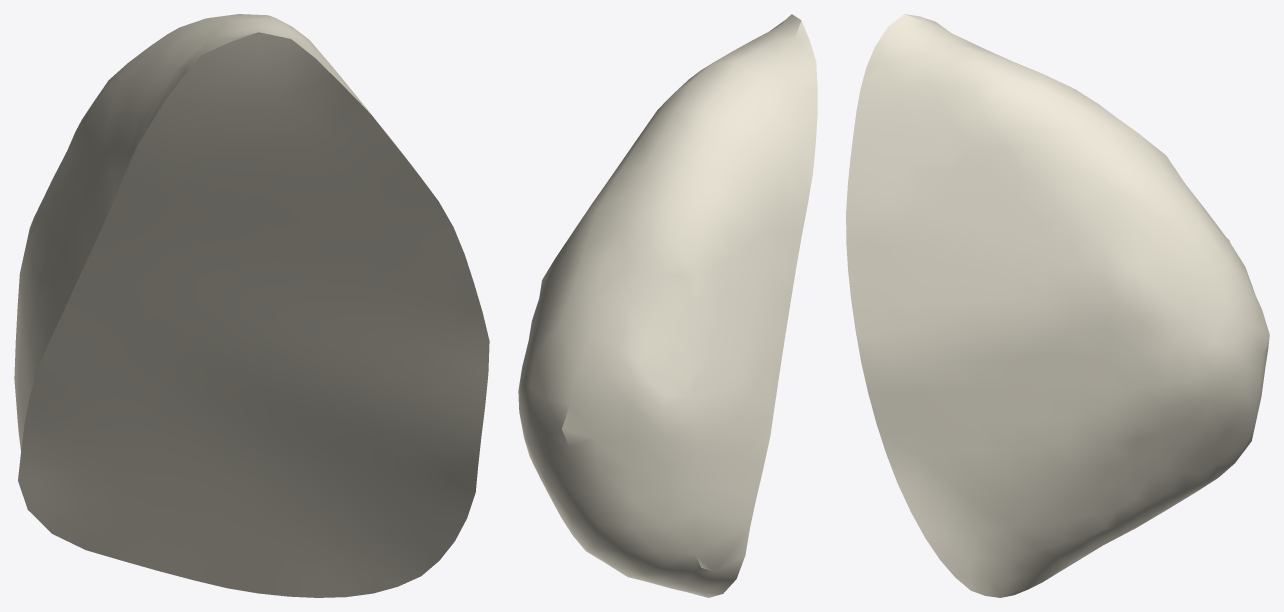
Rendered from fma16323_mm2349.glb.
The picture shows the model from 3 angles, left to right: view 1: azimuth 30°, elevation 25°; view 2: azimuth 150°, elevation 25°; view 3: azimuth 270°, elevation 25°; orthographic projection. The views are drawn at different scales.
Visible parts, largest first — view 1: FMA16323_MM2349; view 2: FMA16323_MM2349; view 3: FMA16323_MM2349.
Boxes of the visible parts, <box> form: FMA16323_MM2349: <box>14,14,489,597</box>; FMA16323_MM2349: <box>518,14,817,597</box>; FMA16323_MM2349: <box>846,14,1269,597</box>.
Size of the model in its own units: 0.00537 by 0.0108 by 0.00793.
